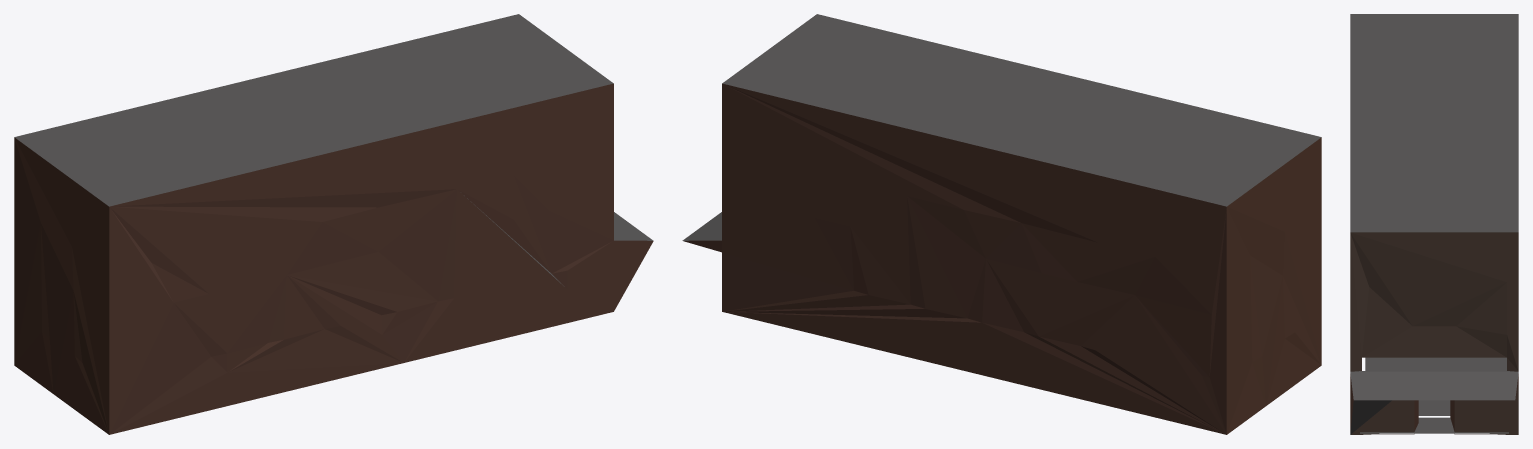
The model's file is brick-shop.far-facades-v1.lod2.glb.
3 renders of one model, left to right at view 1: azimuth 30°, elevation 25°; view 2: azimuth 150°, elevation 25°; view 3: azimuth 270°, elevation 25°, orthographic. The views are drawn at different scales.
Visible parts, largest first — view 1: brick-shop; view 2: brick-shop; view 3: brick-shop.
Boxes of the visible parts, bbox=[...] form: brick-shop: bbox=[14, 14, 653, 434]; brick-shop: bbox=[682, 14, 1321, 434]; brick-shop: bbox=[1350, 14, 1518, 434].
Bounding box in the file's own units: 24.07 × 9.61 × 7.24.
